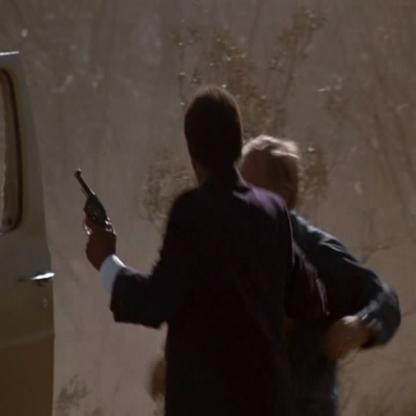gun: (53, 150, 124, 259)
